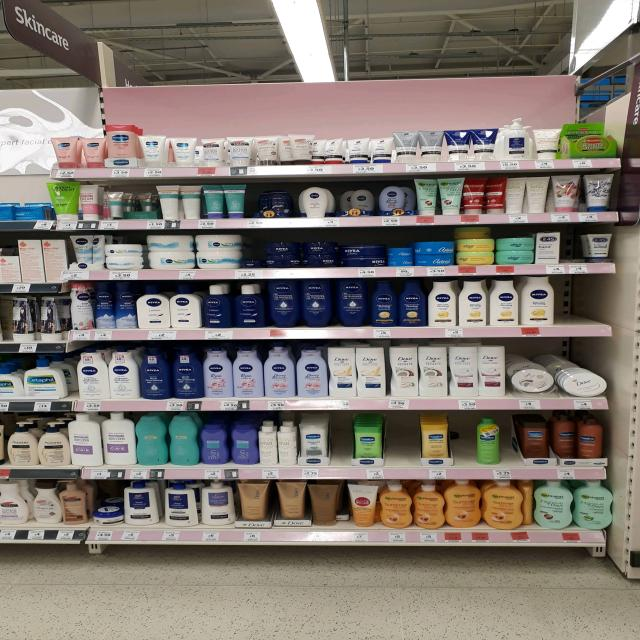empty: (557, 278, 610, 332), (385, 412, 421, 469), (323, 415, 351, 467), (446, 421, 481, 458)
